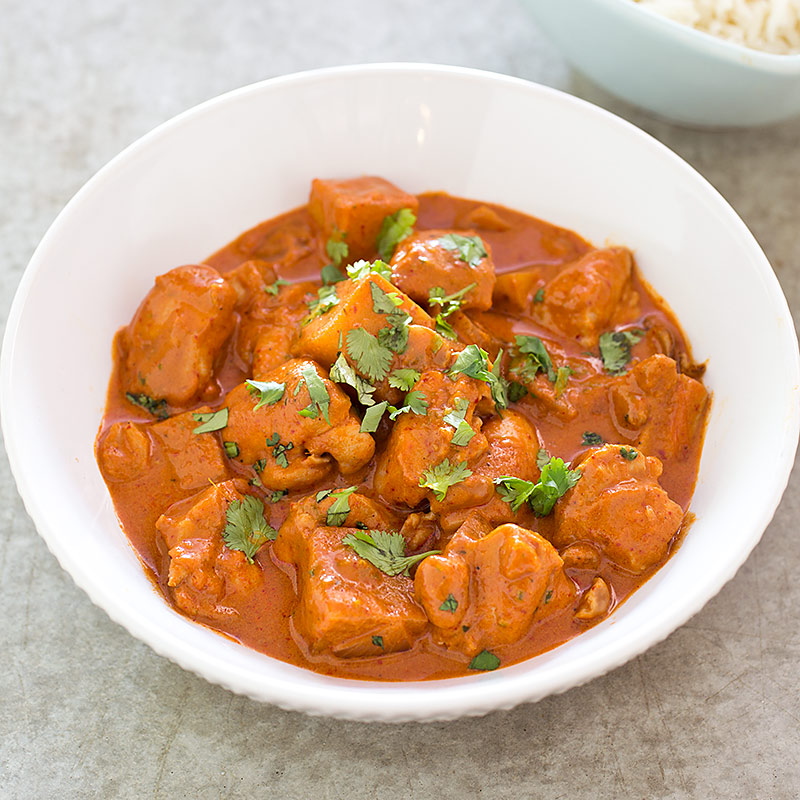chicken_curry: (145, 221, 689, 695)
